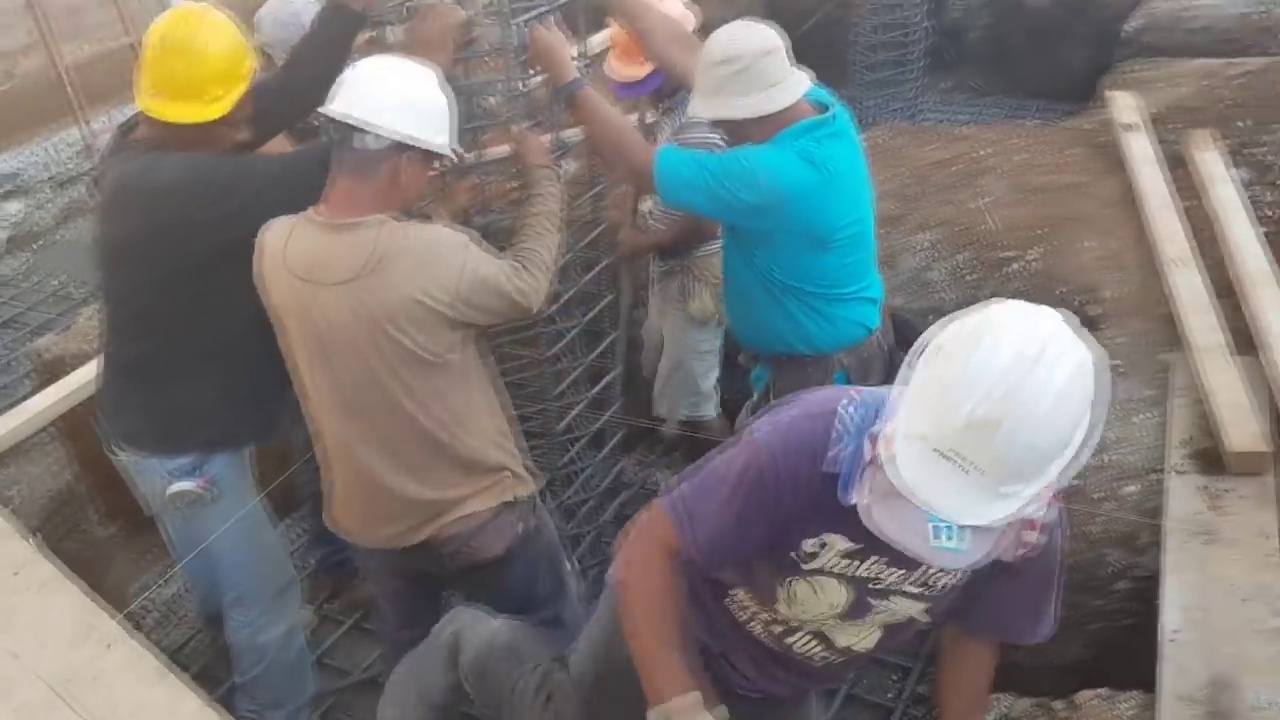helmet: (886, 291, 1104, 536), (314, 50, 456, 167), (127, 9, 248, 135), (599, 2, 697, 83)
helmet-off: (685, 15, 830, 149)
helmet-on: (856, 285, 1107, 584), (304, 40, 463, 231), (112, 4, 264, 161), (597, 1, 702, 117)
person: (379, 287, 1108, 719), (87, 0, 462, 717), (244, 40, 580, 645), (529, 0, 876, 424), (573, 0, 742, 455)
